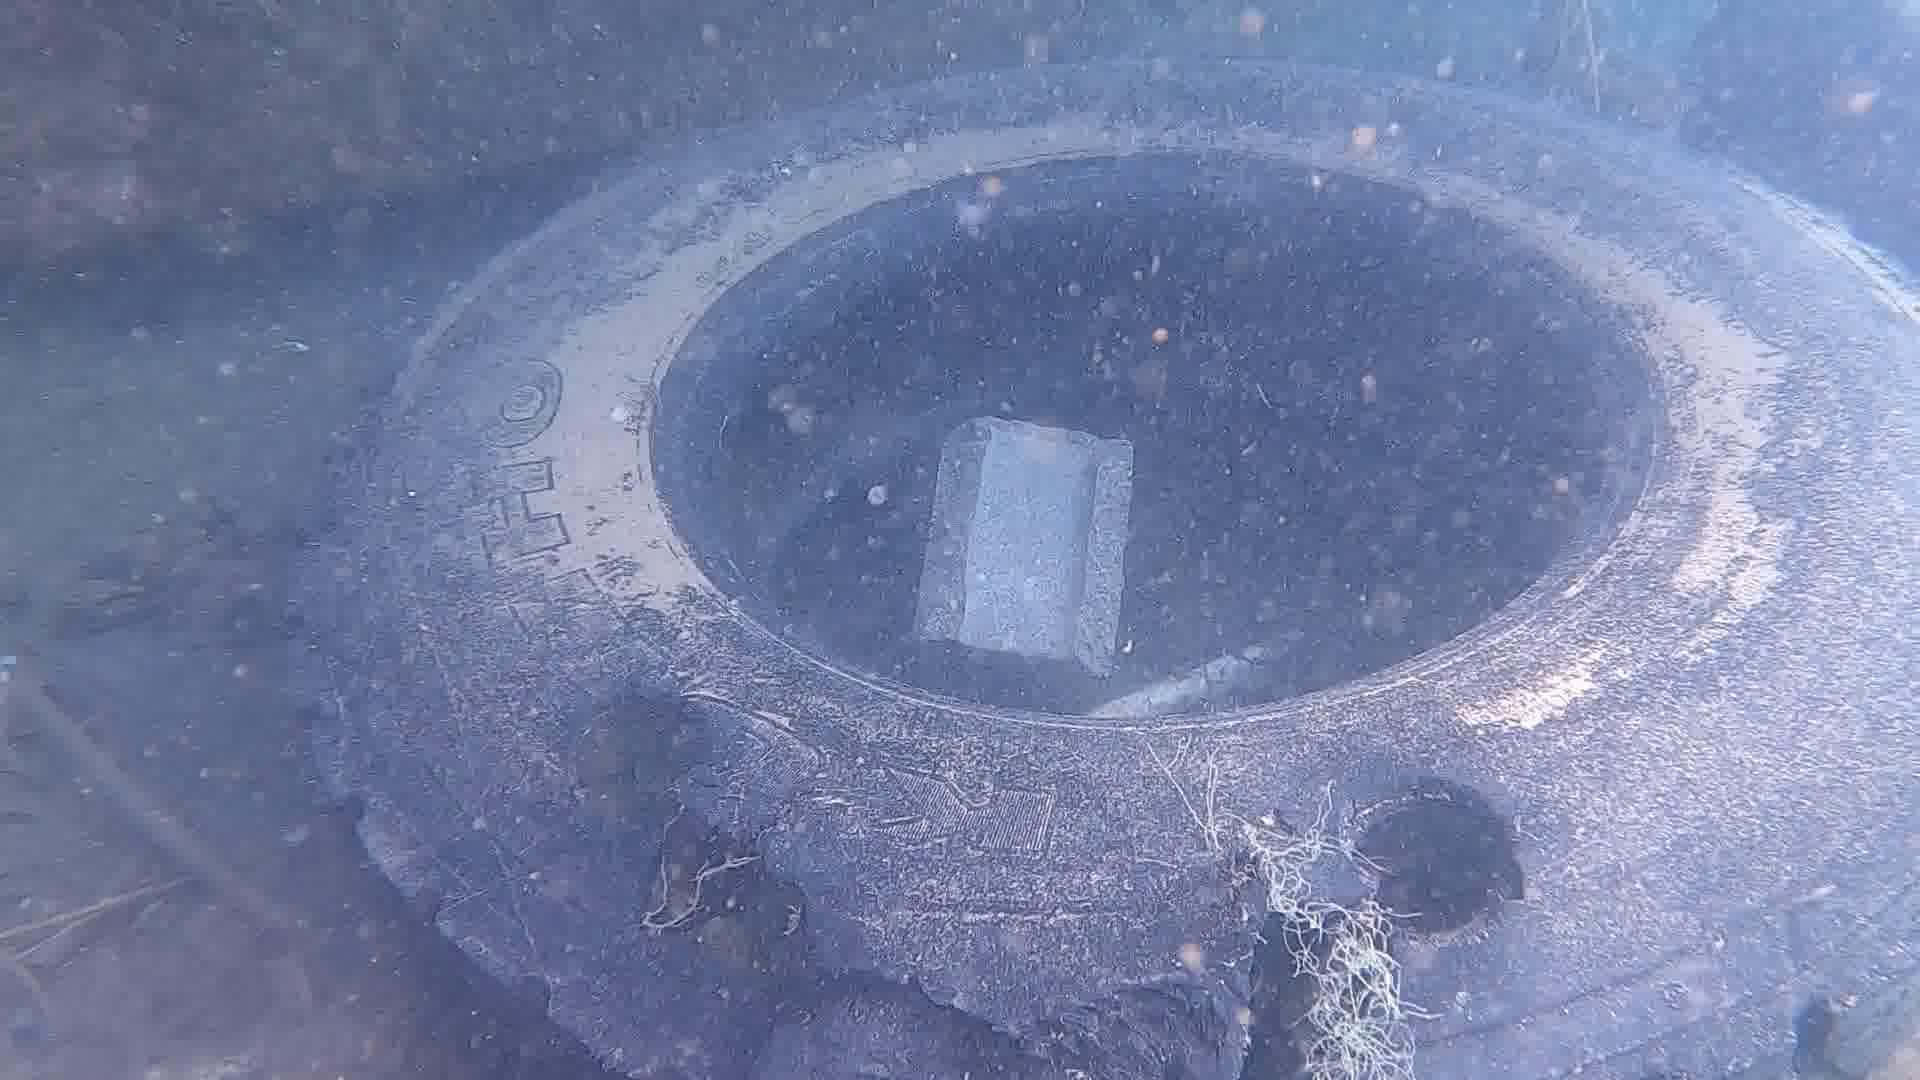tire: (281, 58, 1920, 1080)
